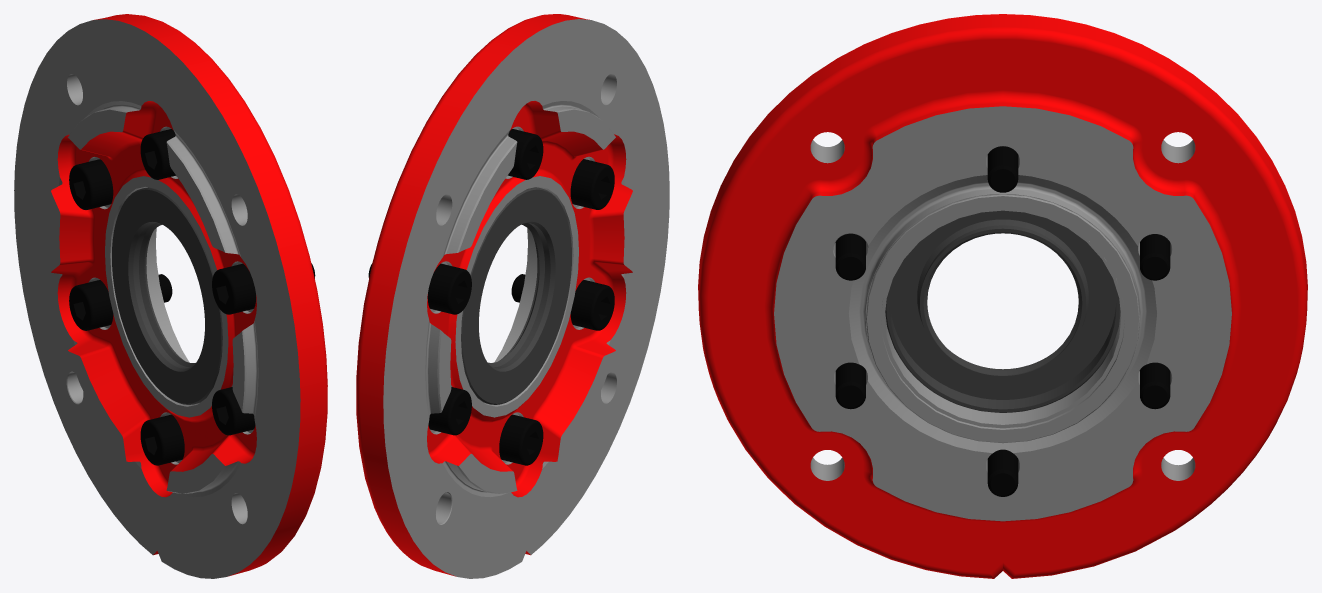
The model's file is Antriebsflansch.fbx.
3 renders of one model, left to right at view 1: azimuth 30°, elevation 25°; view 2: azimuth 150°, elevation 25°; view 3: azimuth 270°, elevation 25°, orthographic. The views are drawn at different scales.
Visible parts, largest first — view 1: Body1 (×7), Body2; view 2: Body1 (×7), Body2; view 3: Body1 (×7), Body2.
Part boxes in pixels (<box>): Body1 (×7): <box>14,14,327,578</box>; Body2: <box>112,187,222,404</box>; Body1 (×7): <box>356,14,669,578</box>; Body2: <box>461,187,571,404</box>; Body1 (×7): <box>698,14,1307,578</box>; Body2: <box>885,210,1120,412</box>.
Bounding box in the file's own units: 29.5 × 160 × 160.
